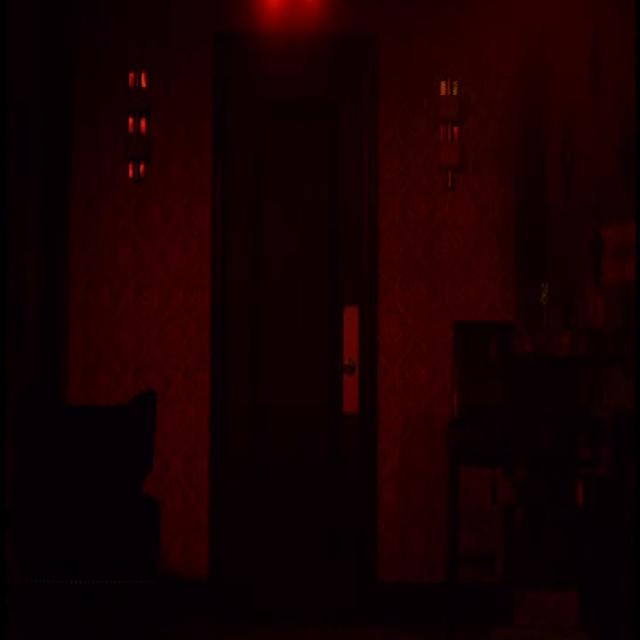chair: (0, 378, 184, 640), (436, 304, 529, 604)
